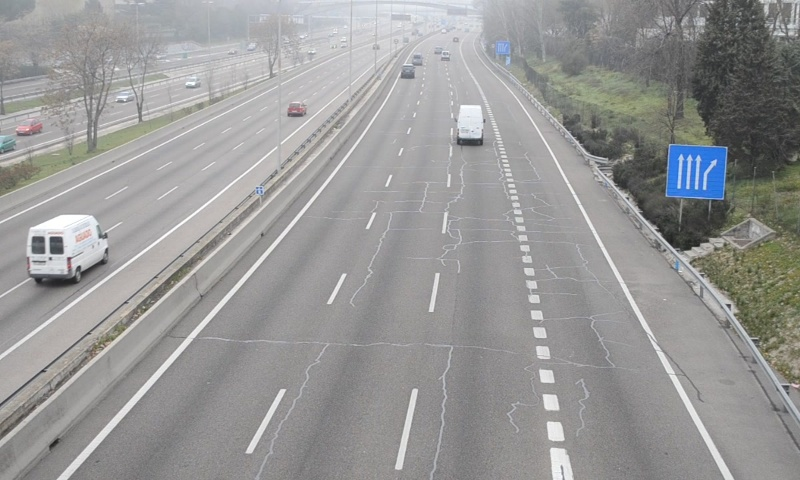car: (400, 63, 415, 78)
van: (455, 104, 486, 141)
